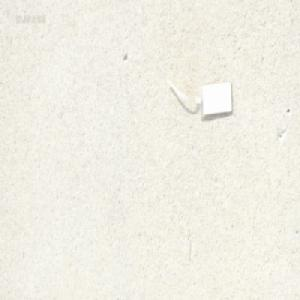LuggageTag: (162, 78, 234, 120)
